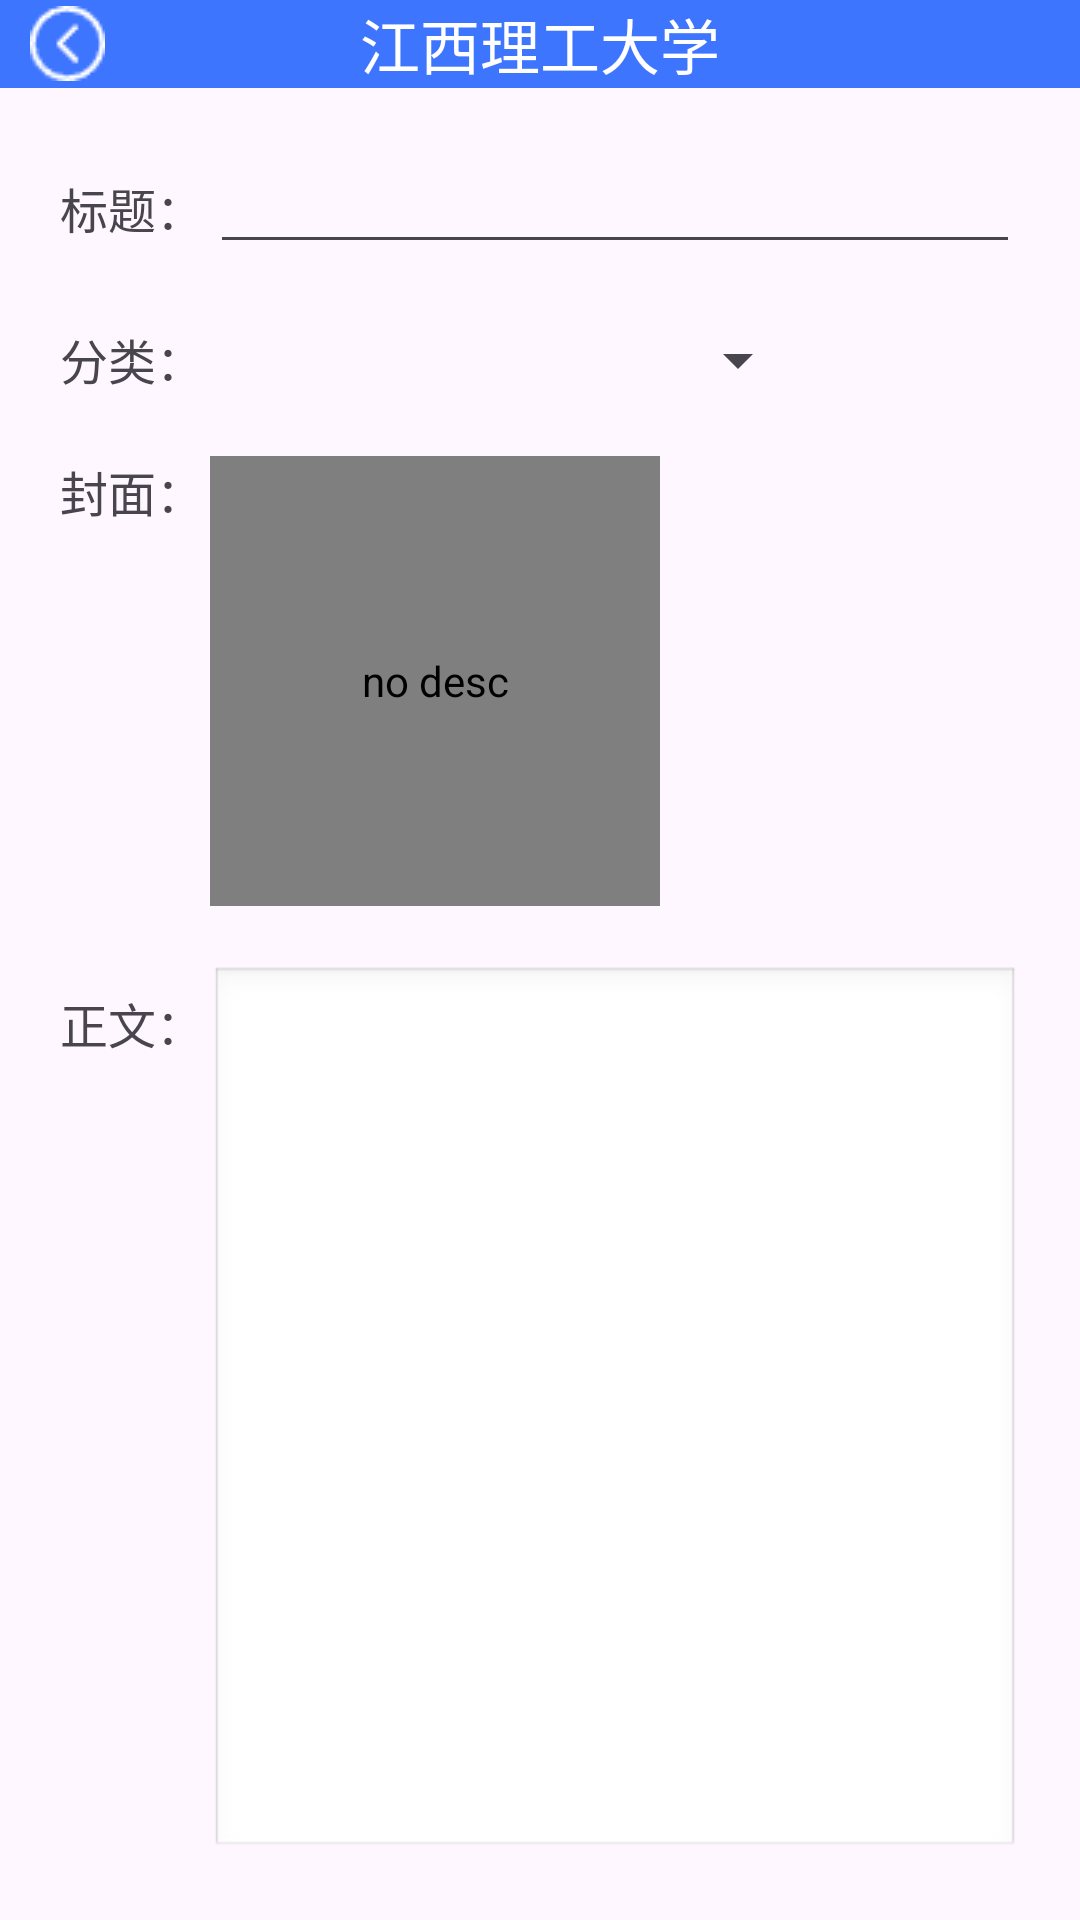

Locate icon controls on the screen. Image size 1080*1920, boxes as bbox(x1, y1, x2, y2).
back: bbox(30, 6, 105, 81)
